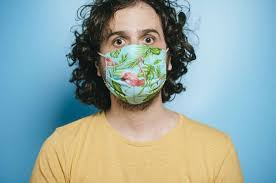cloth_mask: (99, 47, 169, 106)
